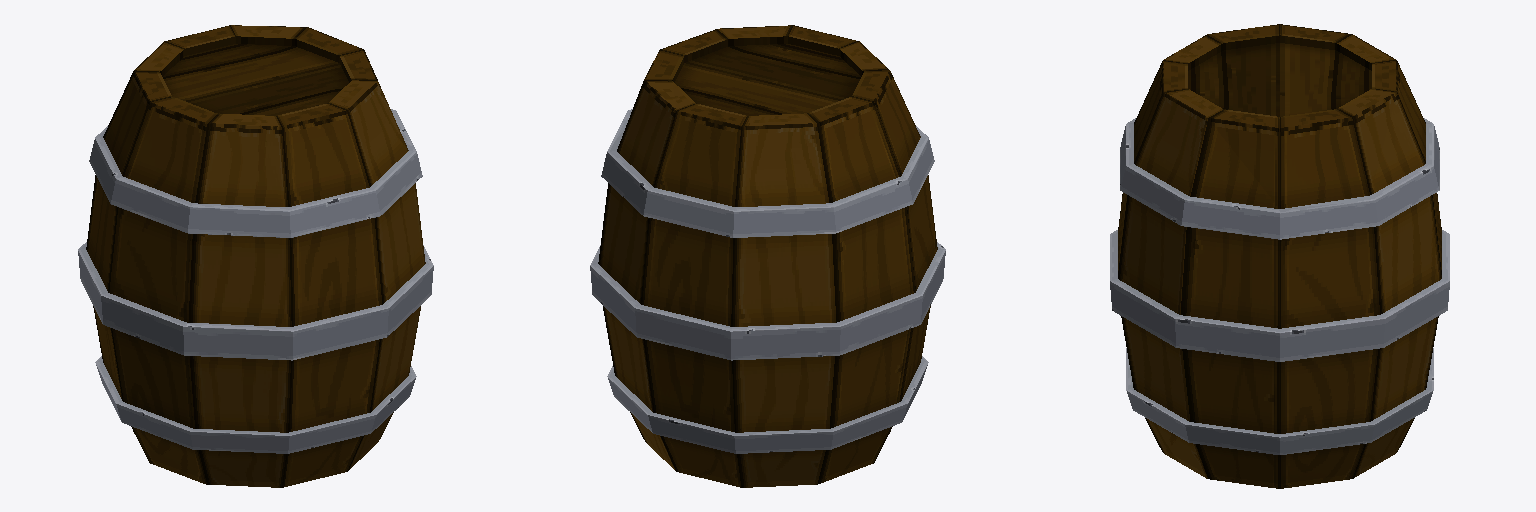
3 renders of one model, left to right at view 1: azimuth 30°, elevation 25°; view 2: azimuth 150°, elevation 25°; view 3: azimuth 270°, elevation 25°, orthographic.
Parts seen in each view (by area): view 1: PVP_Barrel Mesh; view 2: PVP_Barrel Mesh; view 3: PVP_Barrel Mesh.
Boxes of the visible parts, x1,y1,x2,y2 form: PVP_Barrel Mesh: [78, 25, 433, 487]; PVP_Barrel Mesh: [590, 25, 945, 487]; PVP_Barrel Mesh: [1110, 24, 1449, 488].
Bounding box in the file's own units: 1.88 × 2.1 × 1.79.
1 materials, 1 textured.